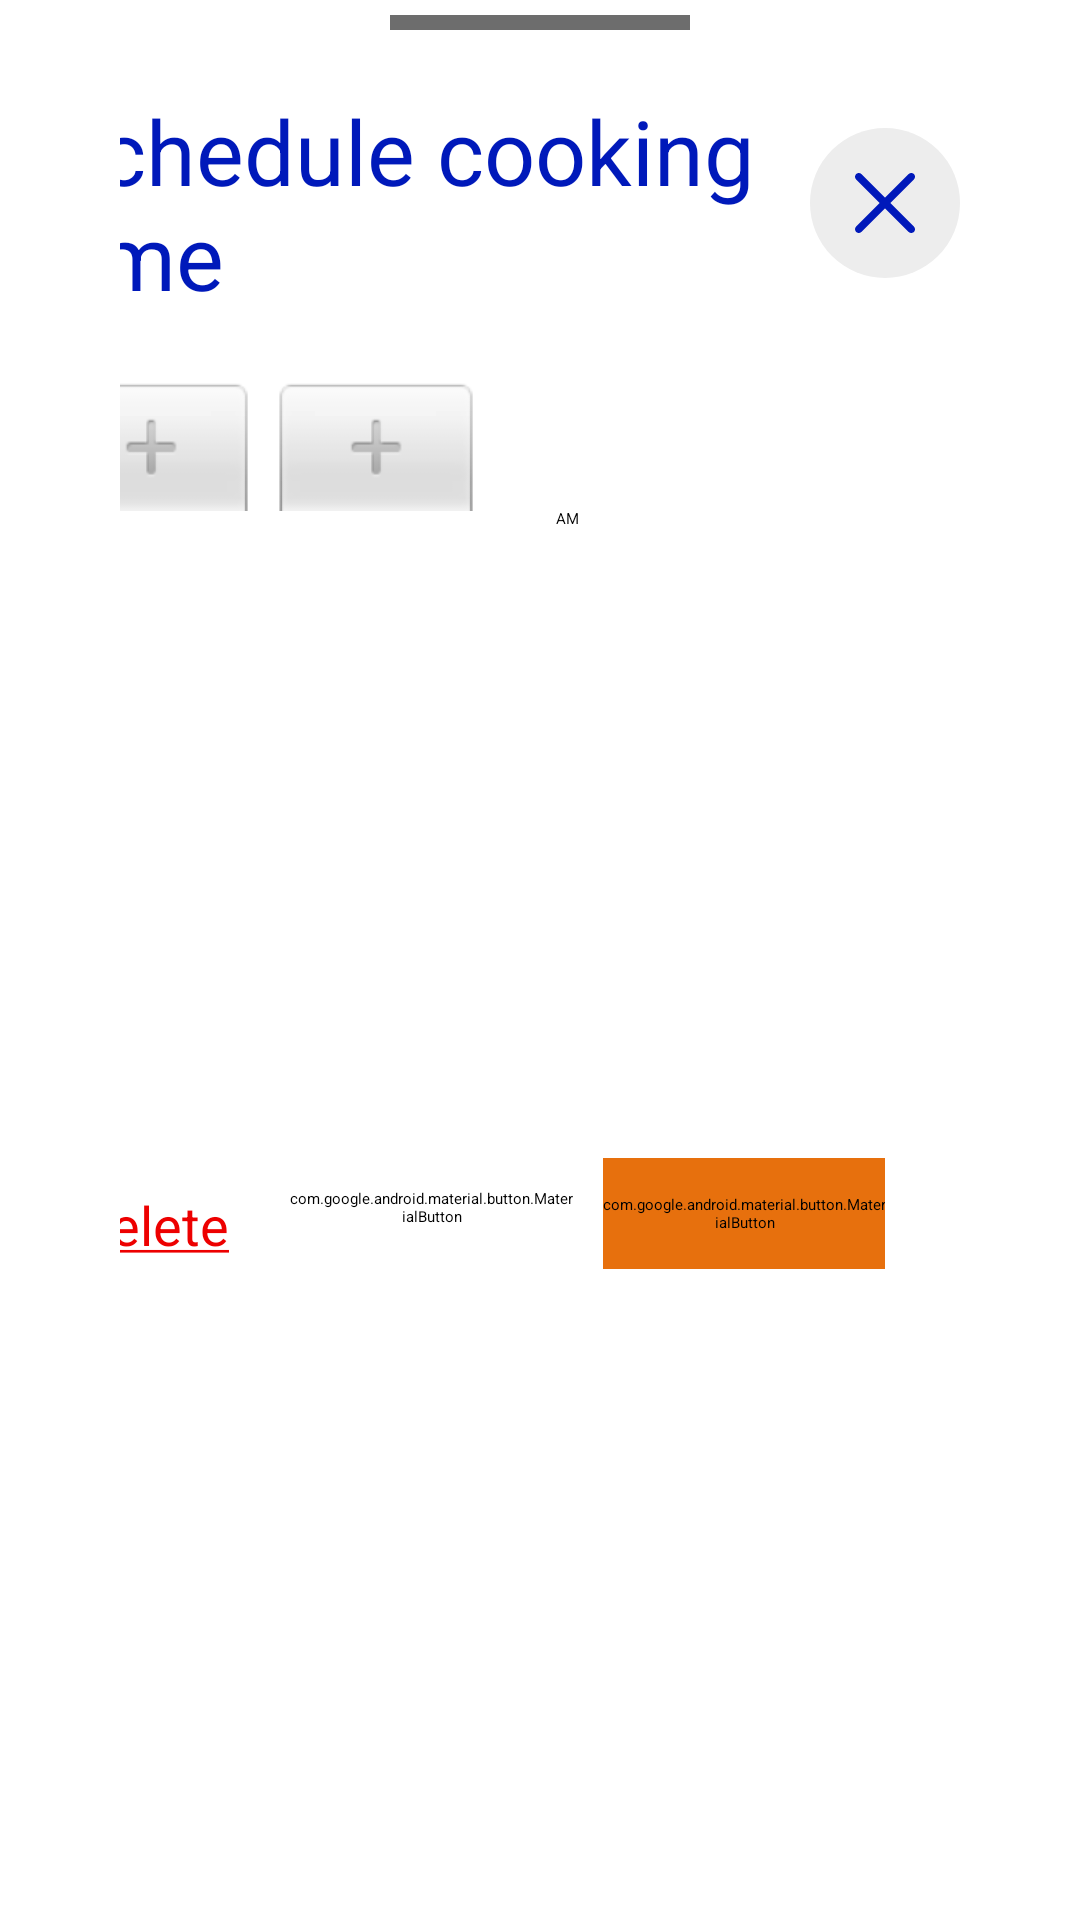

Icon click points for this 1080w x 1920h phone screenshot, format point (x, y):
cross: point (885, 203)
